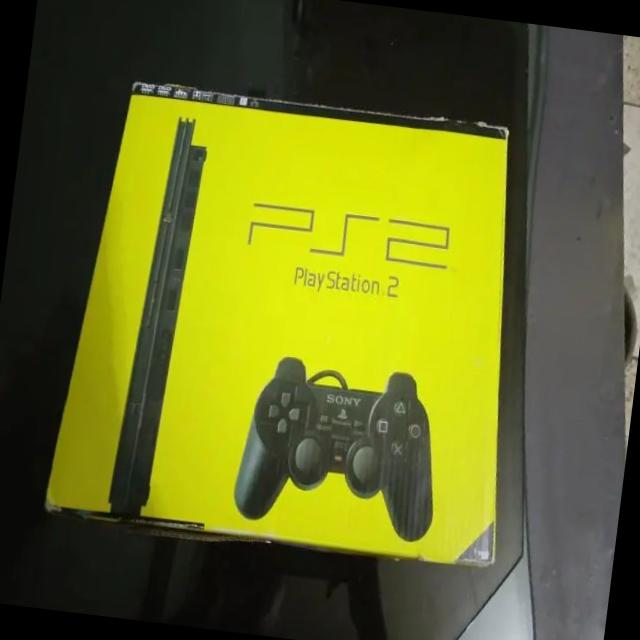electronic: (41, 75, 546, 572)
